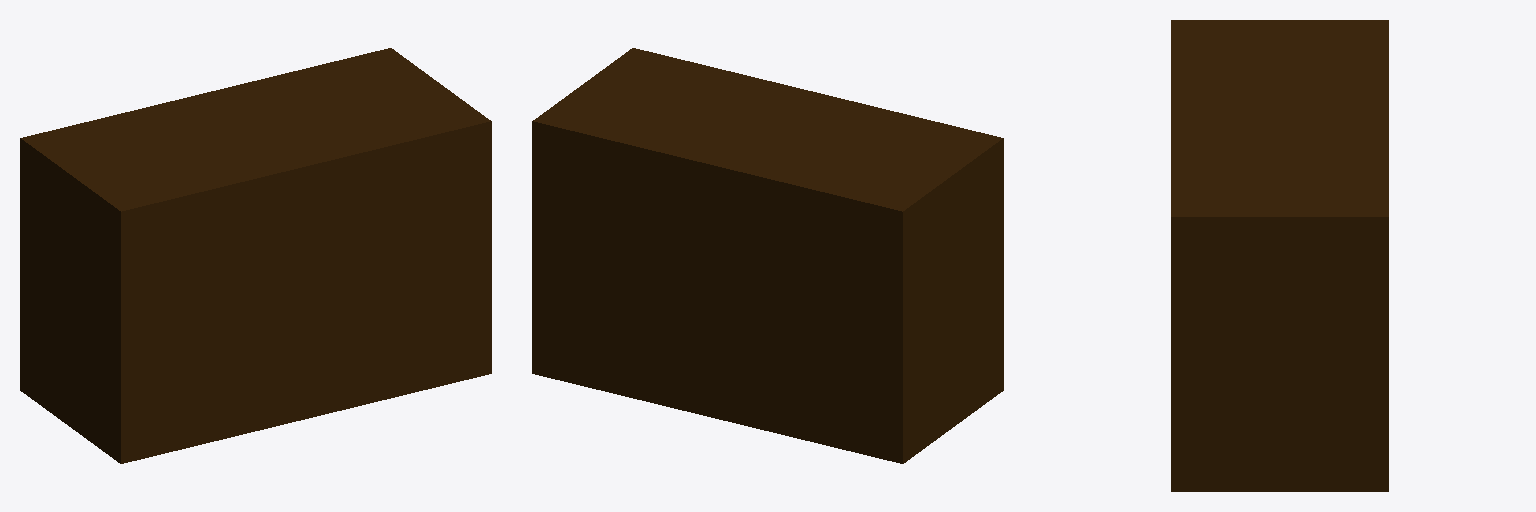
URDF robot description (box4):
<?xml version="1.0" ?>
<robot name="box4">
  <link name="box4_body">
    <visual>
      <origin xyz="0 0 0" rpy="0 0 0"/>
      <geometry>
        <box size="0.198 0.093 0.129"/>
      </geometry>
      <material name="CardBoard">
        <color rgba="0.2667536437511444 0.17454615235328674 0.06440283358097076 1" />
      </material>
    </visual>
    <collision>
      <origin xyz="0 0 0" rpy="0 0 0"/>
      <geometry>
        <box size="0.198 0.093 0.129"/>
      </geometry>
    </collision>
    <inertial>
      <origin xyz="0 0 0" rpy="0 0 0"/>
      <mass value="0.297"/>
      <inertia ixx="0.000626" ixy="0" ixz="0" iyy="0.00667" iyz="0" izz="0.00667" />
    </inertial>
  </link>
</robot>

--- Facts derived from the render (not from the file) ---
Views: 3 orthographic renders of the robot side by side, from view 1: azimuth 30°, elevation 25°; view 2: azimuth 150°, elevation 25°; view 3: azimuth 270°, elevation 25°.
Model box4 with 1 links and 0 joints (none), rooted at box4_body, posed all joints at 0.
Links seen in each view (by area): view 1: box4_body; view 2: box4_body; view 3: box4_body.
Boxes of the visible links, x1=… form: box4_body: x1=20, y1=48, x2=491, y2=463; box4_body: x1=532, y1=48, x2=1003, y2=463; box4_body: x1=1171, y1=20, x2=1388, y2=491.
Bounding box of the posed robot: 0.198 × 0.093 × 0.129 m (x, y, z).
Geometry: primitives only (box / cylinder / sphere), no mesh files.